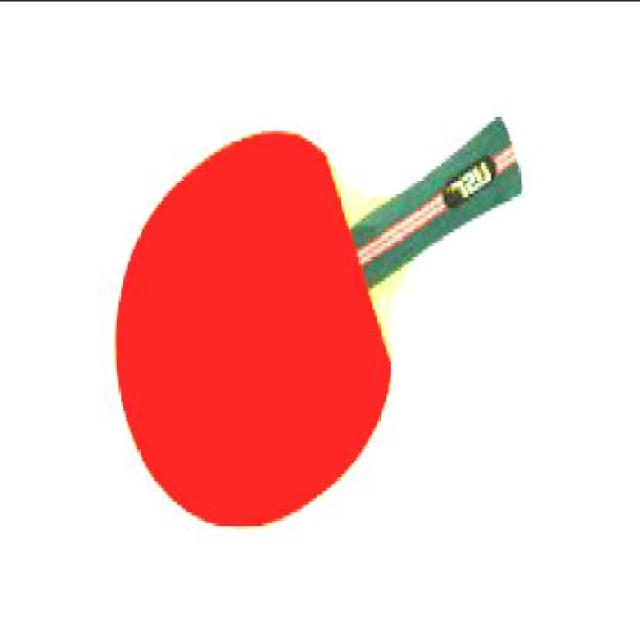table_tennis_racket: (108, 120, 392, 532)
